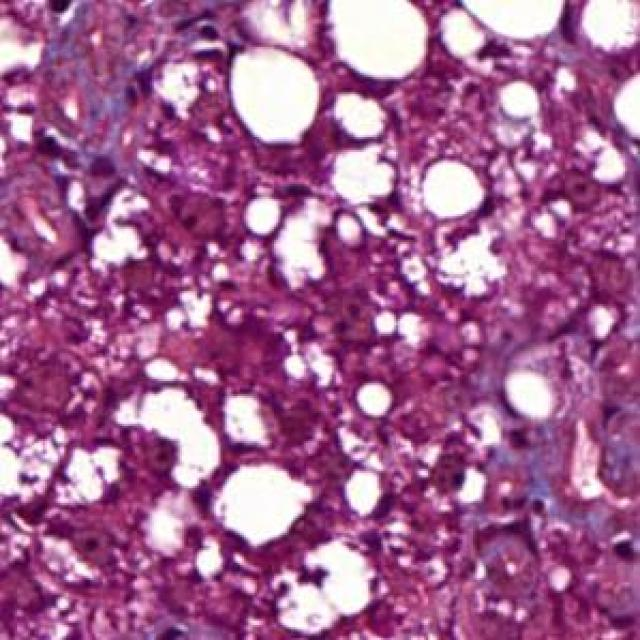steatosis: (214, 36, 325, 160), (424, 156, 499, 248)
